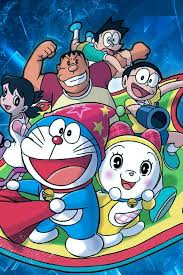doraemon: (7, 115, 103, 258)
